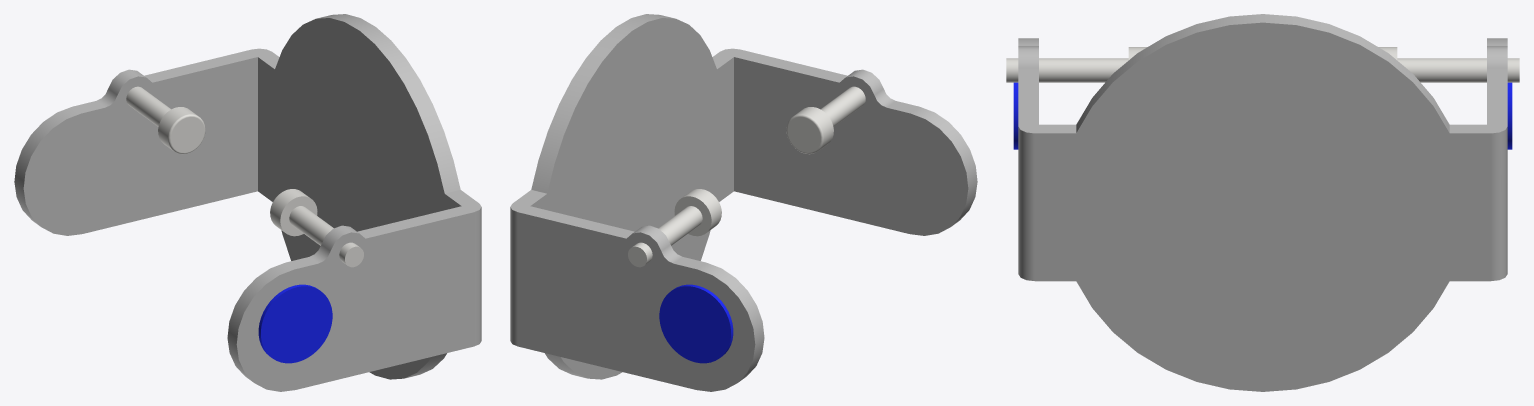
Rendered from wrist_p_link.dae.
3 views of the same model, side by side, from view 1: azimuth 30°, elevation 25°; view 2: azimuth 150°, elevation 25°; view 3: azimuth 270°, elevation 25° (orthographic). The views are drawn at different scales.
Parts seen in each view (by area): view 1: FBXASC227FBXASC130FBXASC189FBXASC227FBXASC131FBXASC170FBXASC (×4); view 2: FBXASC227FBXASC130FBXASC189FBXASC227FBXASC131FBXASC170FBXASC (×4); view 3: FBXASC227FBXASC130FBXASC189FBXASC227FBXASC131FBXASC170FBXASC (×3).
Boxes of the visible parts, <box> form: FBXASC227FBXASC130FBXASC189FBXASC227FBXASC131FBXASC170FBXASC (×4): <box>14,14,481,391</box>; FBXASC227FBXASC130FBXASC189FBXASC227FBXASC131FBXASC170FBXASC (×4): <box>510,14,977,391</box>; FBXASC227FBXASC130FBXASC189FBXASC227FBXASC131FBXASC170FBXASC (×3): <box>1006,14,1519,391</box>.
Size of the model in its own units: 0.039 by 0.063 by 0.05.
